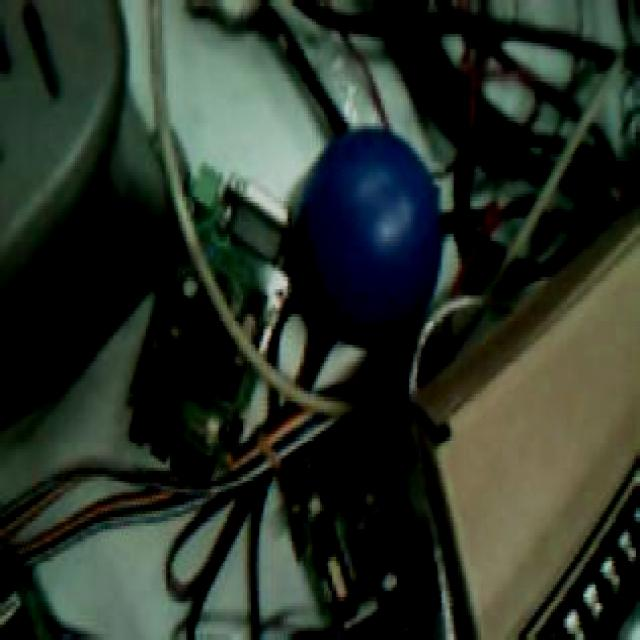BallPurple: (297, 132, 440, 340)
